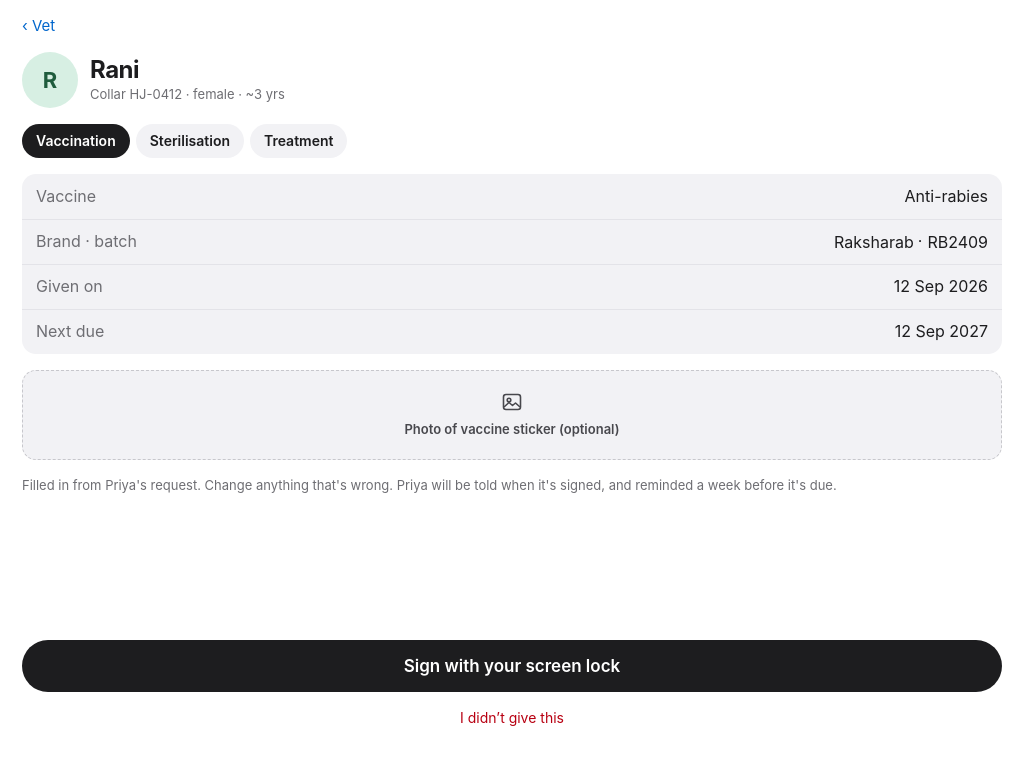
Test case: V3 sign a record › a cancelled passkey saves nothing and says so
Click the button "Sign with your screen lock" at (512, 666), box top-left (22, 640), bottom-right (1002, 692)
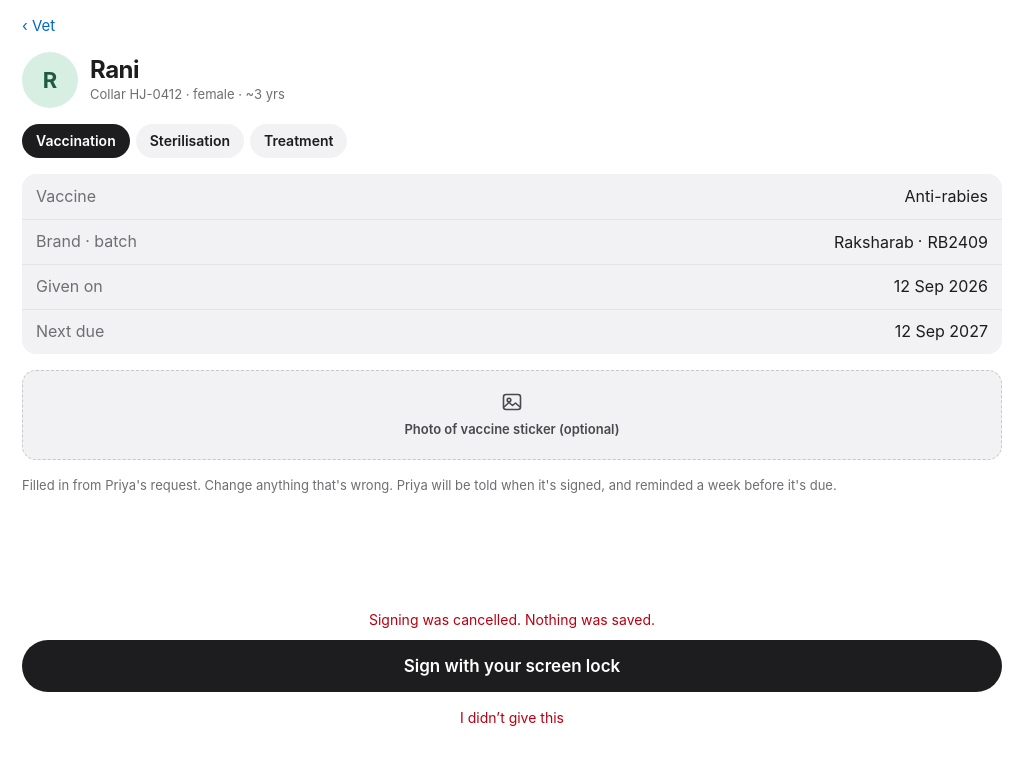
Result: the message reads "Signing was cancelled. Nothing was saved." at top-left (369, 611), bottom-right (655, 628)
